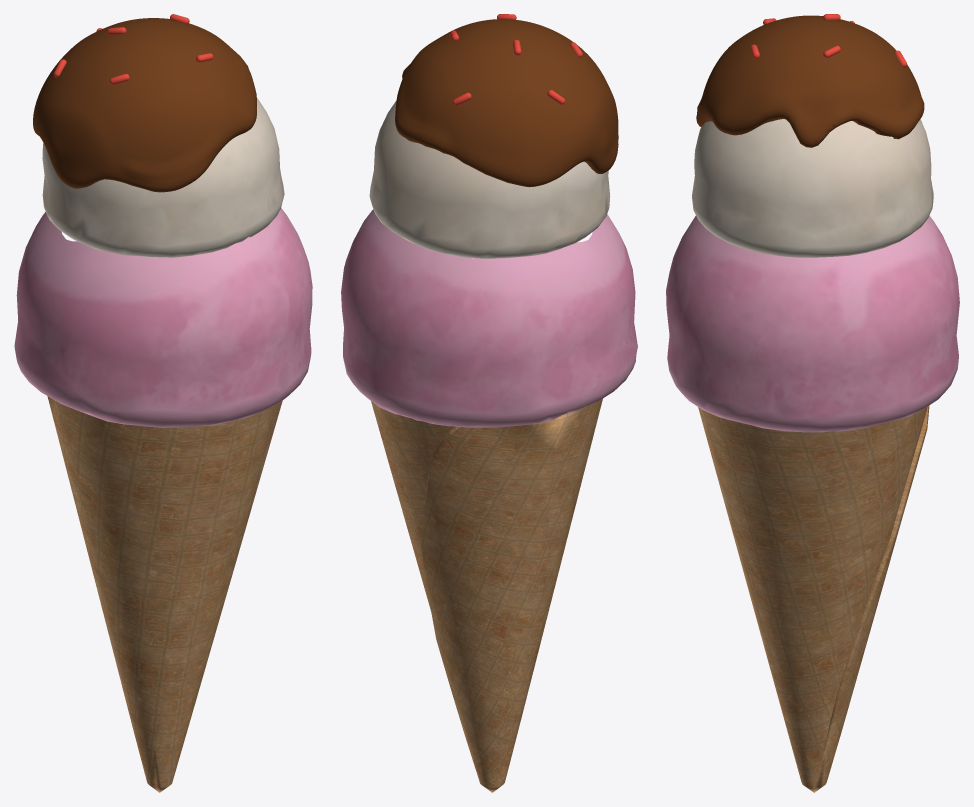
File: ice-cream.glb
3 renders of one model, left to right at view 1: azimuth 30°, elevation 25°; view 2: azimuth 150°, elevation 25°; view 3: azimuth 270°, elevation 25°, orthographic.
Visible parts, largest first — view 1: rabbid.001; view 2: rabbid.001; view 3: rabbid.001.
Part boxes in pixels (box(x1,y1,x2,y2)): rabbid.001: box(14, 14, 312, 792); rabbid.001: box(341, 14, 637, 792); rabbid.001: box(666, 14, 959, 792).
Bounding box in the file's own units: 0.00774 × 0.022 × 0.00768.
4 materials, 2 textured.
